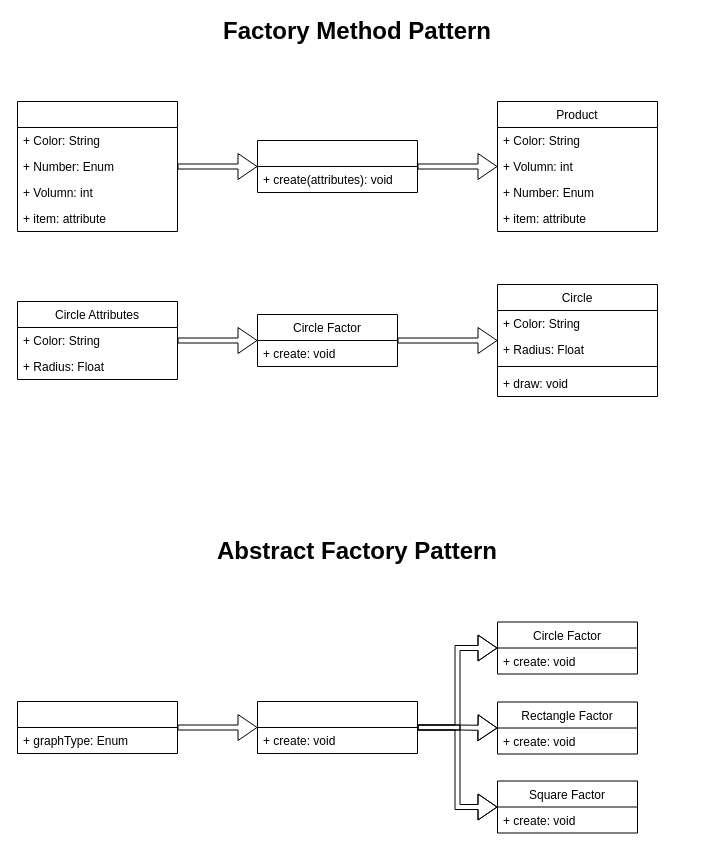
Some shapes in this 715 by 853 pixel diagram are drawn without their labels. Each missing label, with the box of its shape:
Attributes: (16, 100, 178, 232)
Creater: (256, 140, 418, 192)
Factor Attributes: (16, 700, 178, 754)
Factor Creater: (256, 700, 418, 754)
